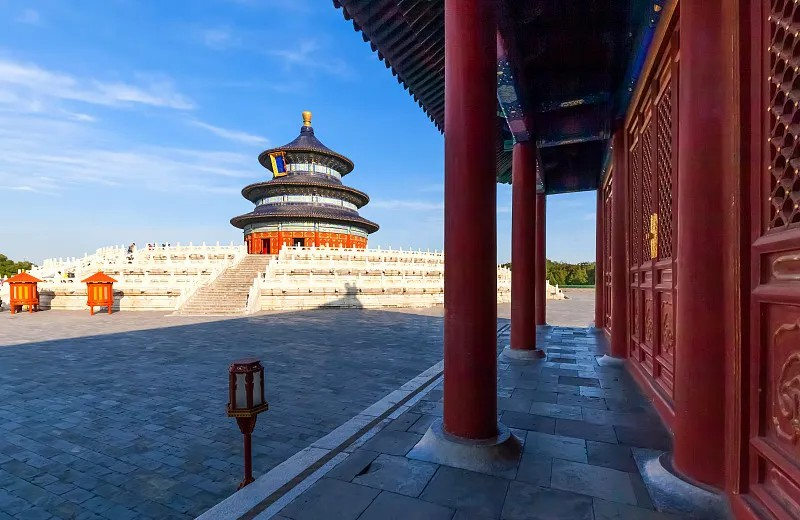Heaven: (230, 111, 380, 254)
